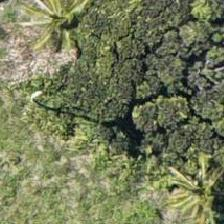coconut_tree: (142, 159, 223, 223), (52, 0, 142, 52)
